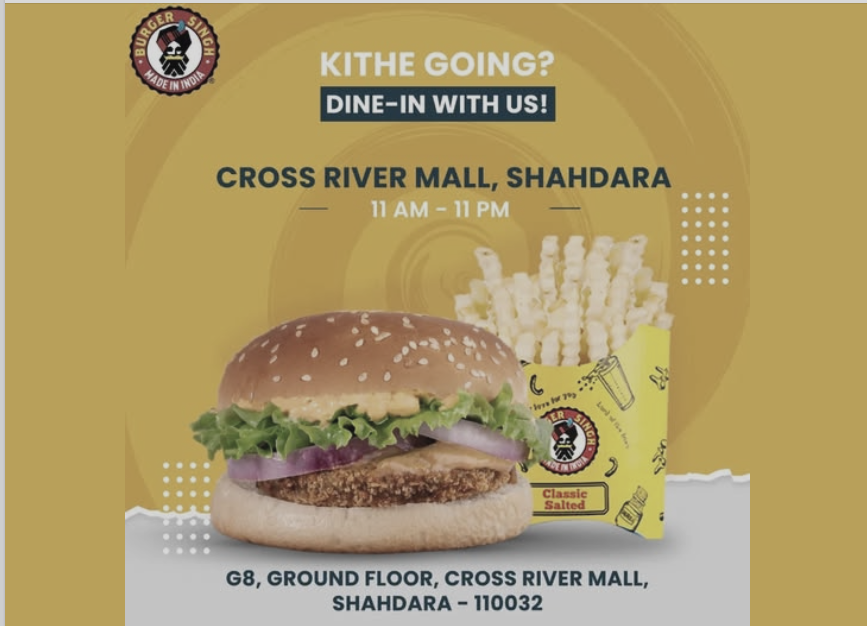CTA: (210, 158, 679, 234)
Headline: (316, 45, 557, 128)
Product: (189, 234, 722, 566)
logo: (124, 3, 227, 102)
